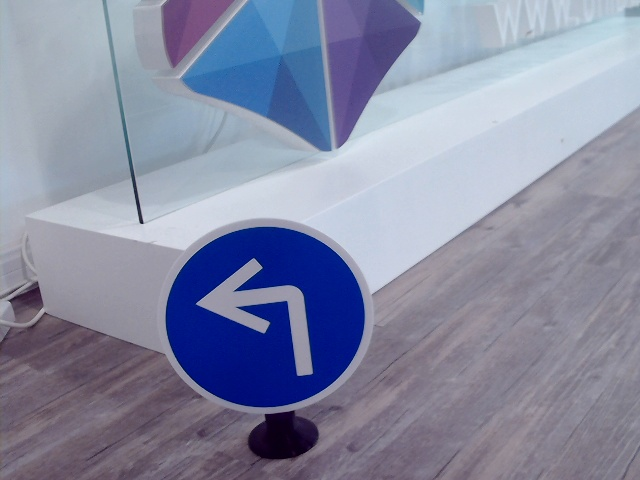turn_left: (196, 253, 320, 382)
